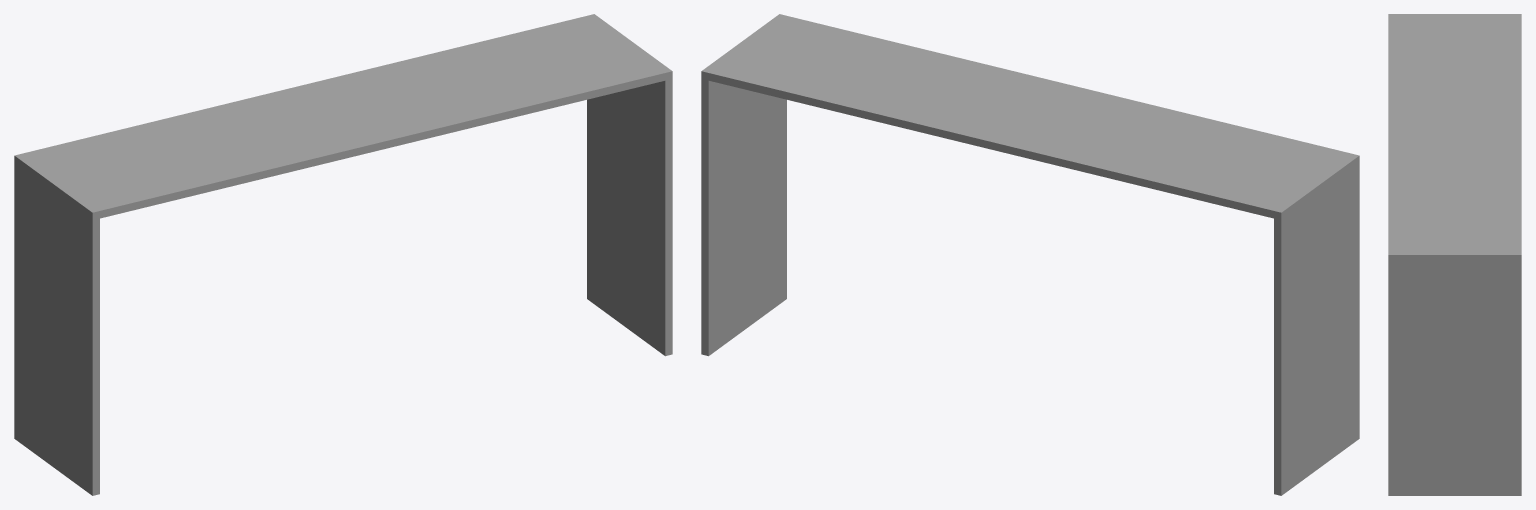
Rendered from meuble_68fa1f237c4d9.glb.
The picture shows the model from 3 angles, left to right: view 1: azimuth 30°, elevation 25°; view 2: azimuth 150°, elevation 25°; view 3: azimuth 270°, elevation 25°; orthographic projection. The views are drawn at different scales.
Parts seen in each view (by area): view 1: world; view 2: world; view 3: world.
Part boxes in pixels (left/top/right/bottom): world: left=14, top=14, right=672, bottom=495; world: left=701, top=14, right=1359, bottom=495; world: left=1388, top=14, right=1521, bottom=495.
Size of the model in its own units: 1.5 by 0.7 by 0.35.
1 material, 1 textured.
